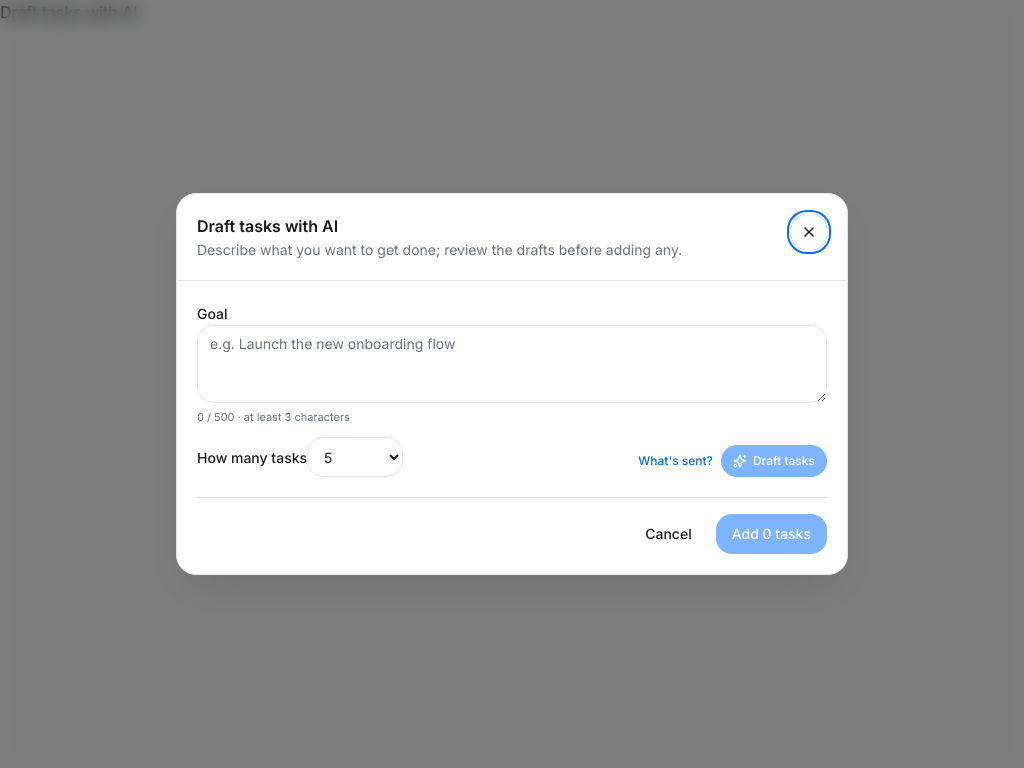
Test: reviewing and adding › keeps a draft that couldn't be created, with the reason, and adds the rest
This screenshot has width=1024, height=768.
Type "Launch the new onboarding" into the text box labelled "Goal" at (512, 364), box [197,325,827,403]
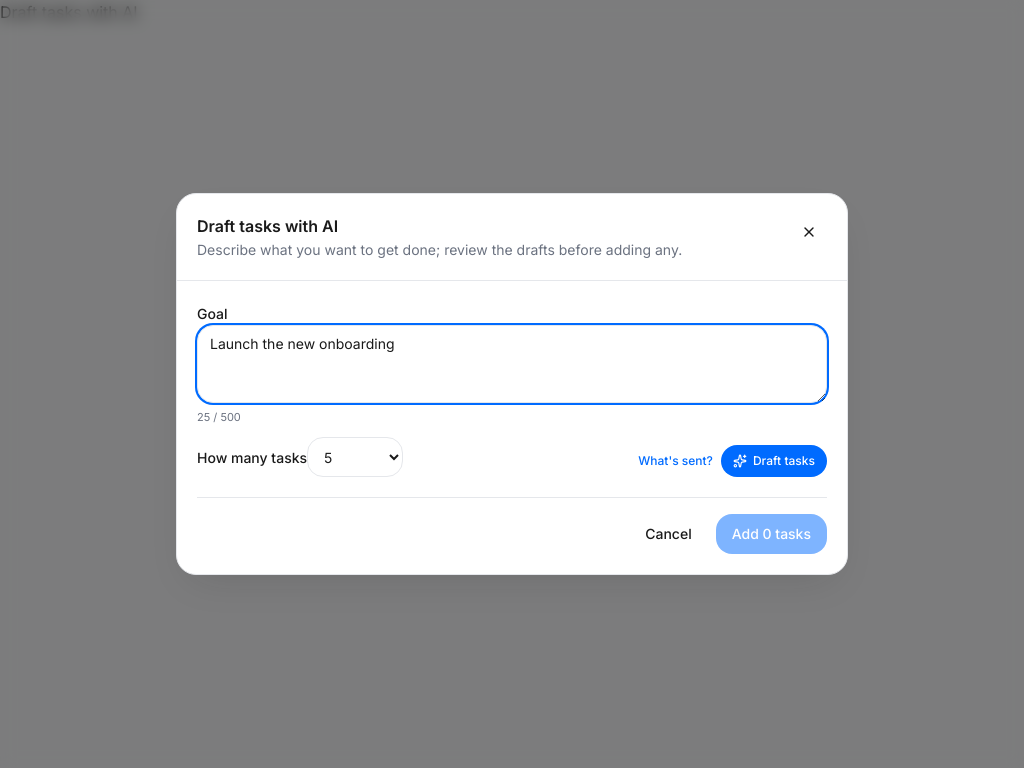
Click the button "Draft tasks" at (774, 461), box [721,445,827,477]
(page scrolled)
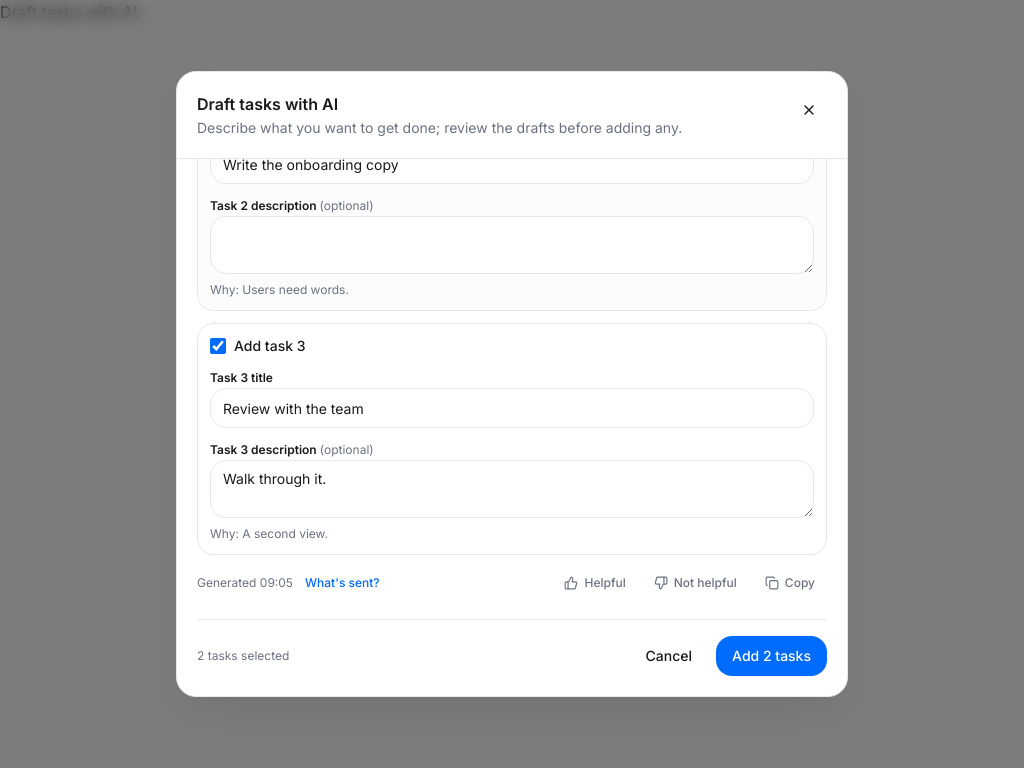
Click the button "Add 2 tasks" at (772, 656), box [716,636,827,676]
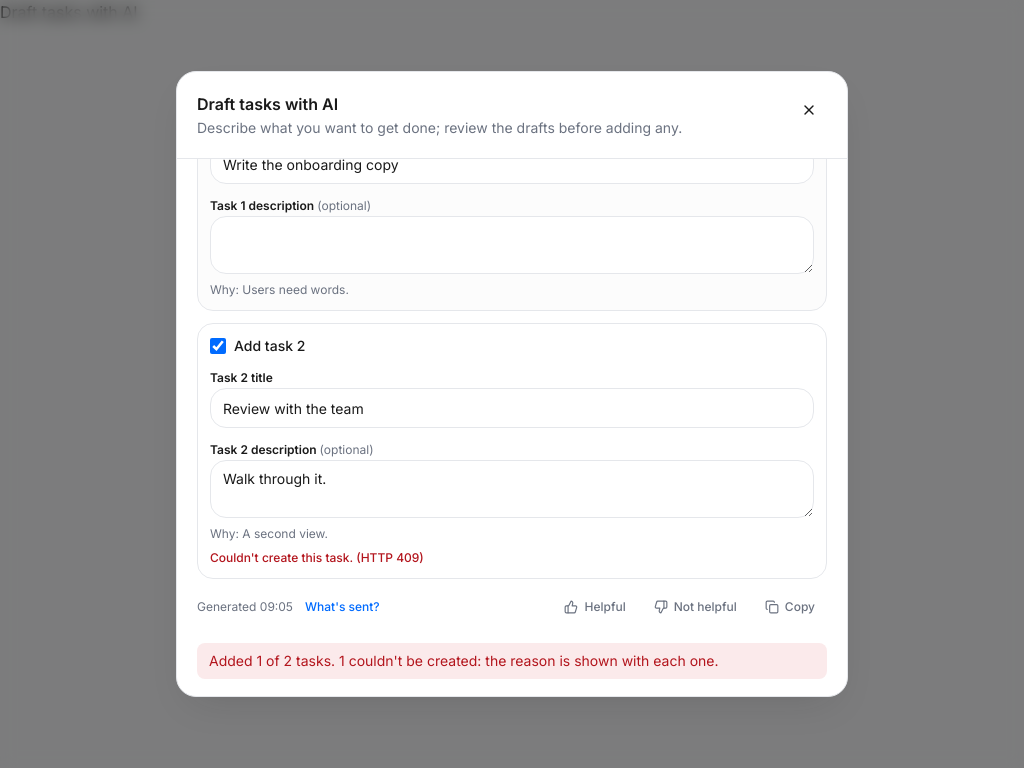
Now the message shows "Added 1 of 2 tasks. 1 couldn't be created", box [209,652,718,669]
